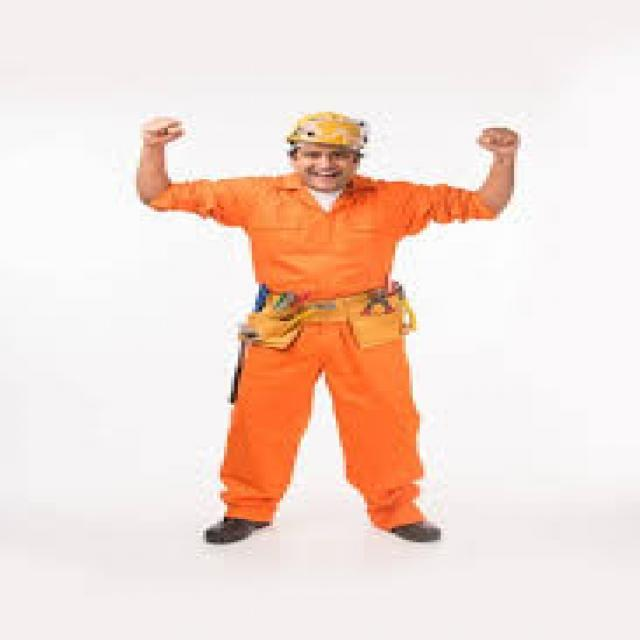safety_helmet: (273, 102, 381, 158)
